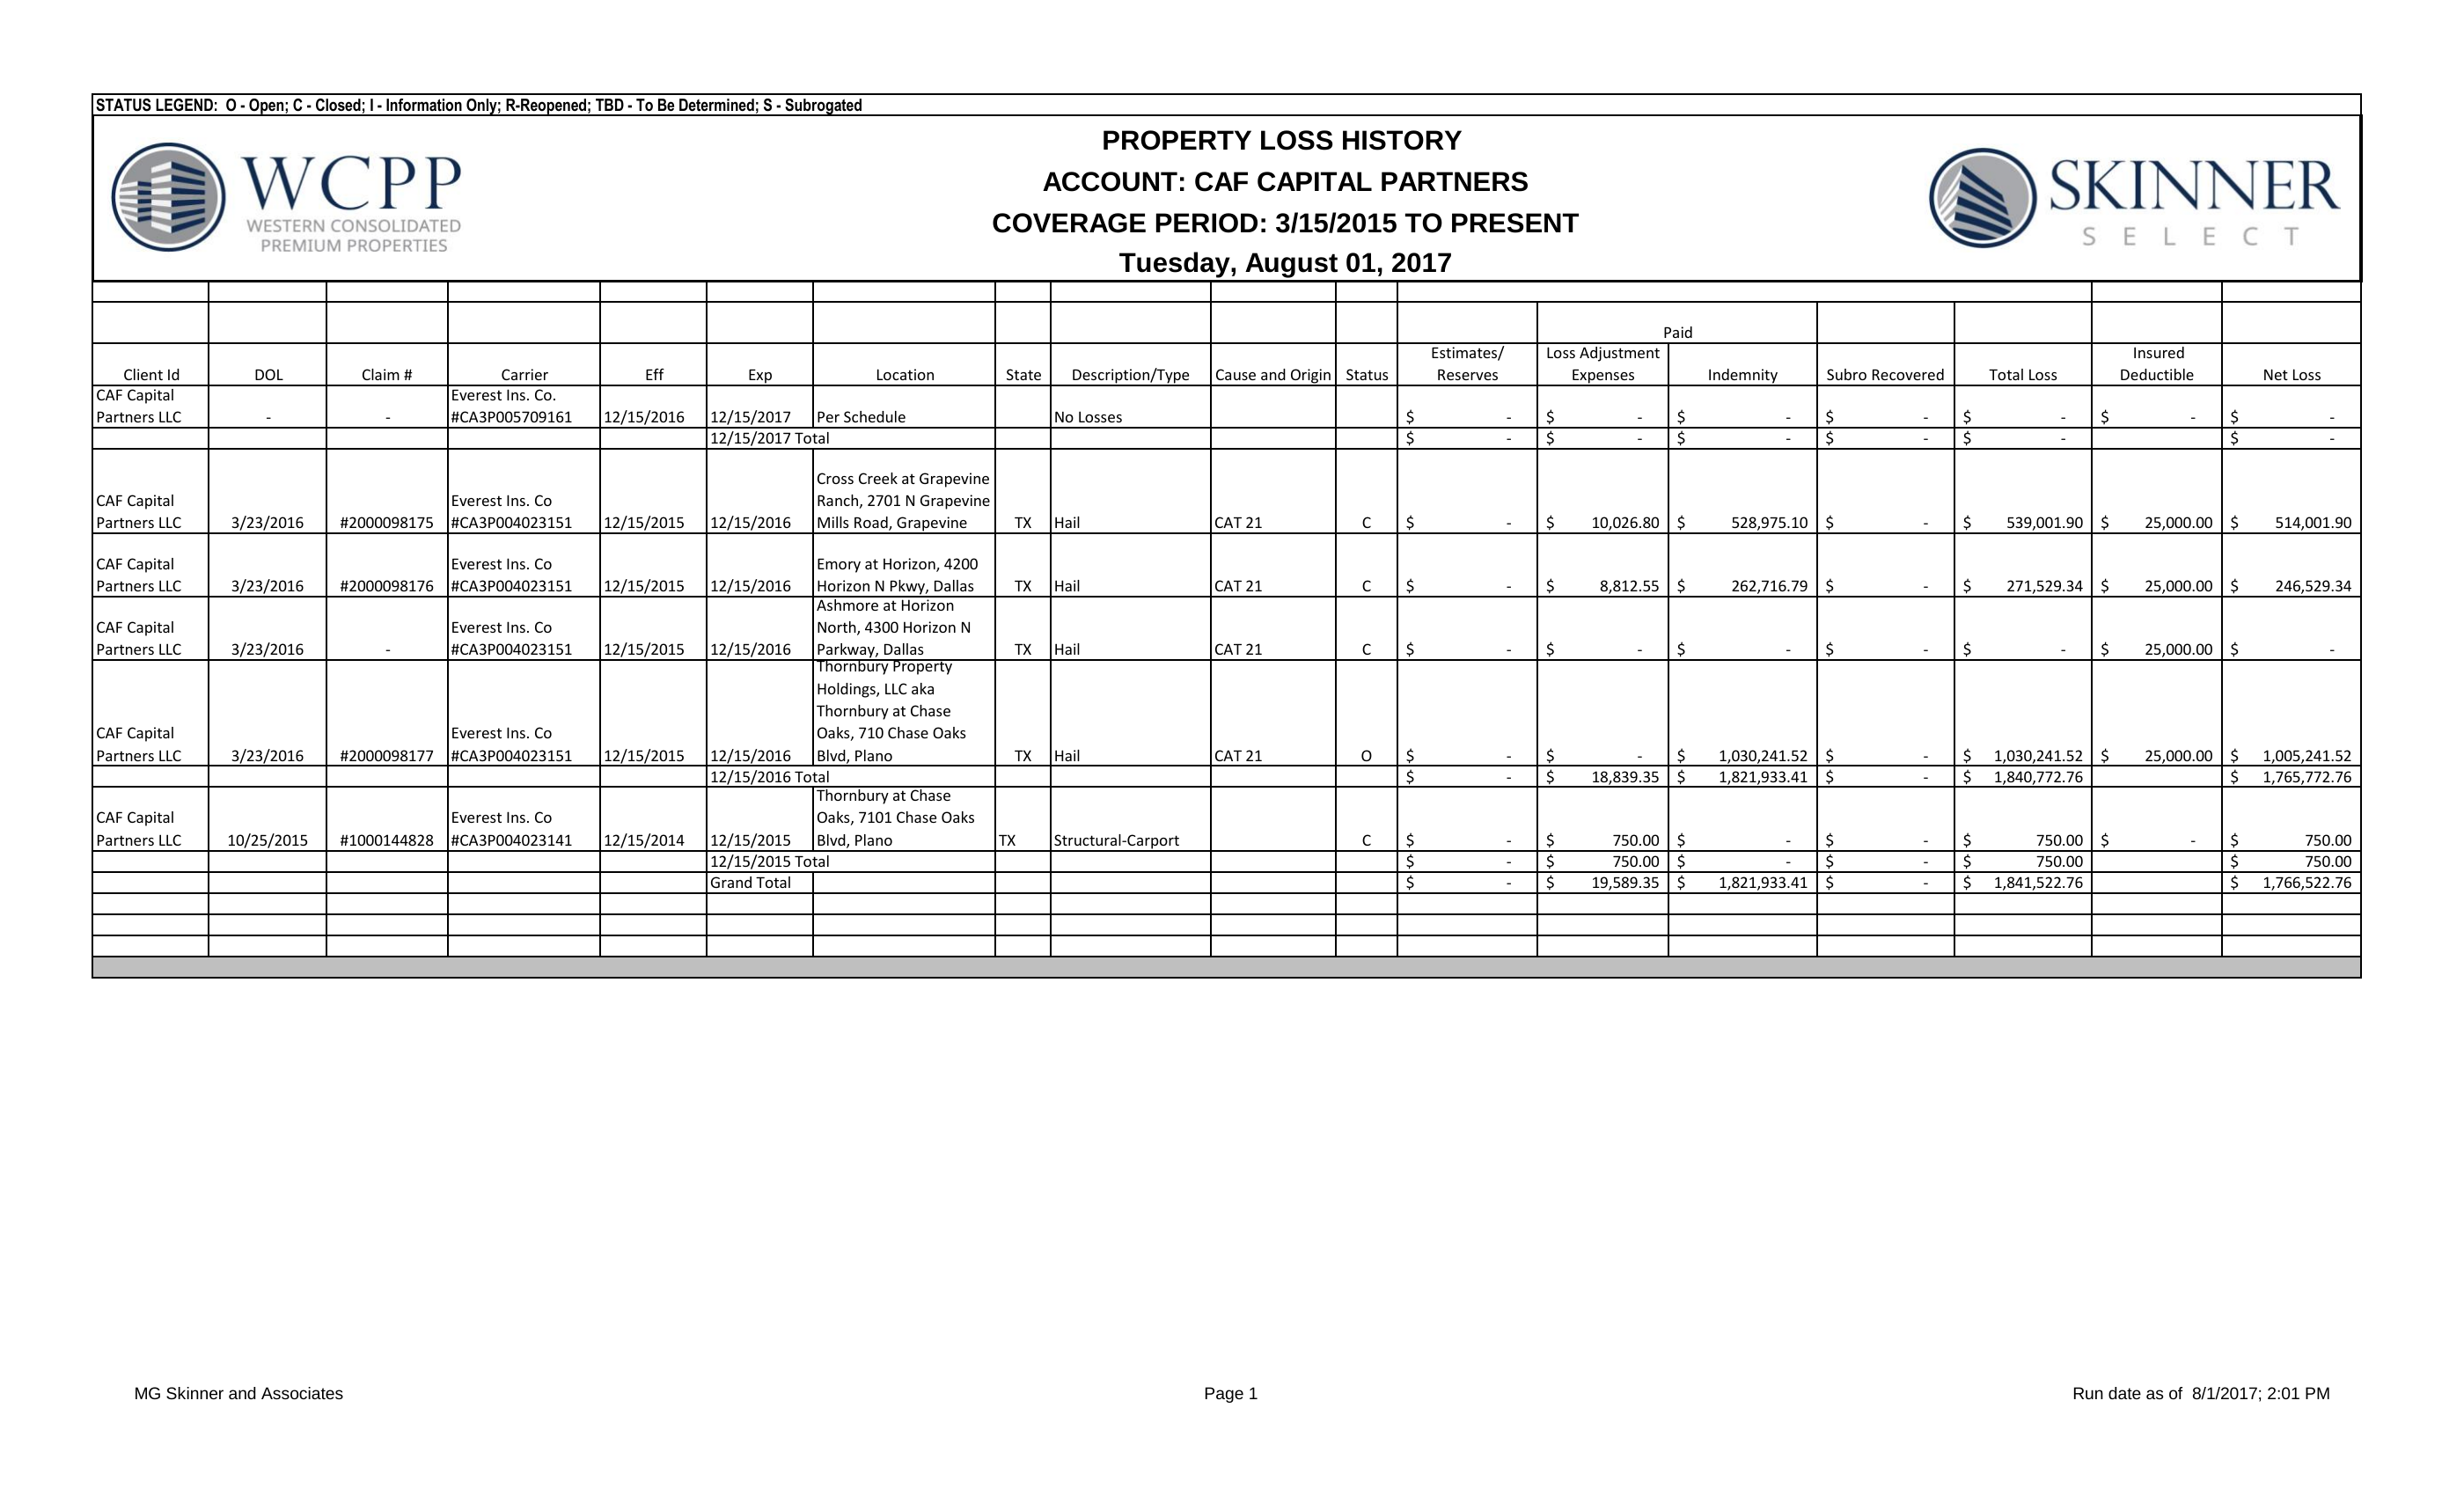others: (84, 326, 2369, 982)
